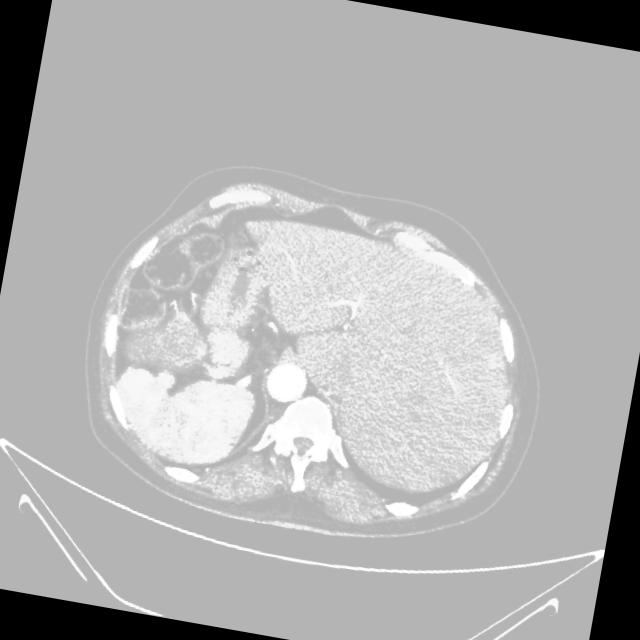TUMOR: (86, 160, 363, 462)
